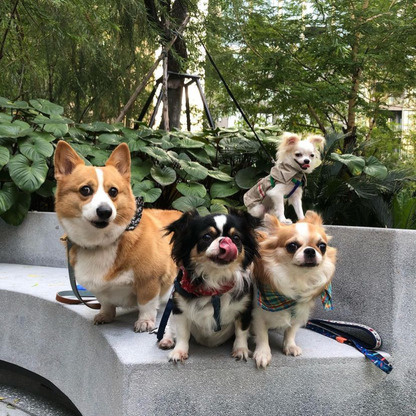Corgi: (45, 141, 163, 332)
